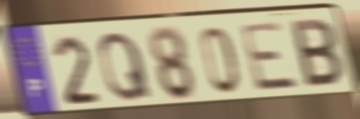0: (199, 25, 242, 95)
2: (51, 33, 103, 107)
8: (146, 23, 197, 103)
B: (288, 17, 346, 91)
E: (237, 19, 303, 94)
Q: (96, 29, 155, 104)
